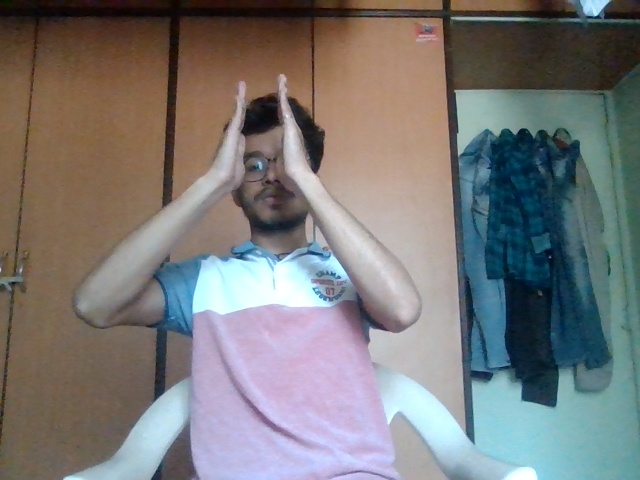morning: (216, 67, 318, 190)
